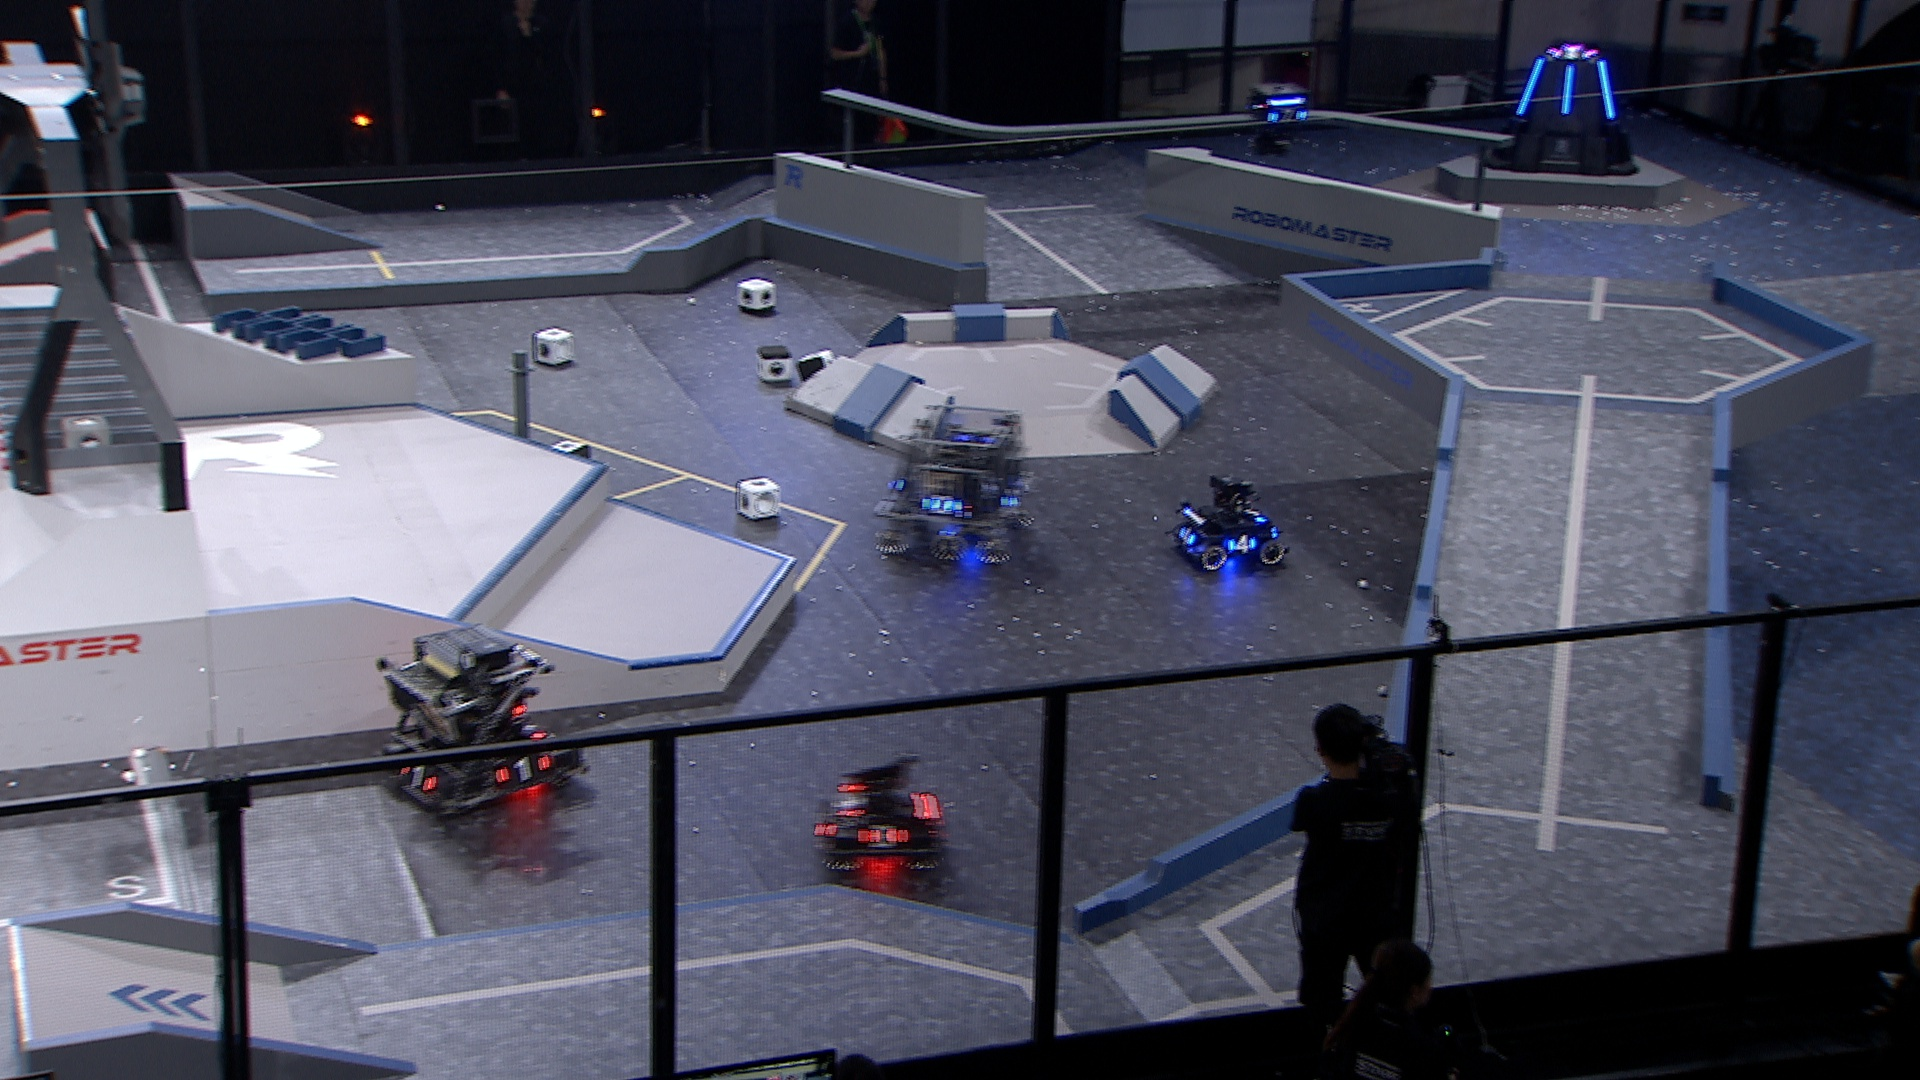armor: (493, 754, 553, 789), (1516, 57, 1547, 117), (1592, 59, 1619, 121), (855, 822, 910, 851), (398, 760, 436, 796), (512, 712, 551, 746), (832, 790, 866, 822), (1557, 65, 1577, 115), (922, 491, 957, 517), (1265, 104, 1307, 125), (1226, 533, 1261, 556), (998, 485, 1025, 510), (1244, 501, 1269, 527), (1176, 520, 1200, 547)
base: (1472, 45, 1643, 177)
car: (373, 618, 589, 827), (870, 398, 1040, 567), (808, 752, 949, 880), (1168, 469, 1291, 579)
ignore: (1552, 45, 1594, 62)
watcher: (1247, 79, 1313, 154)
